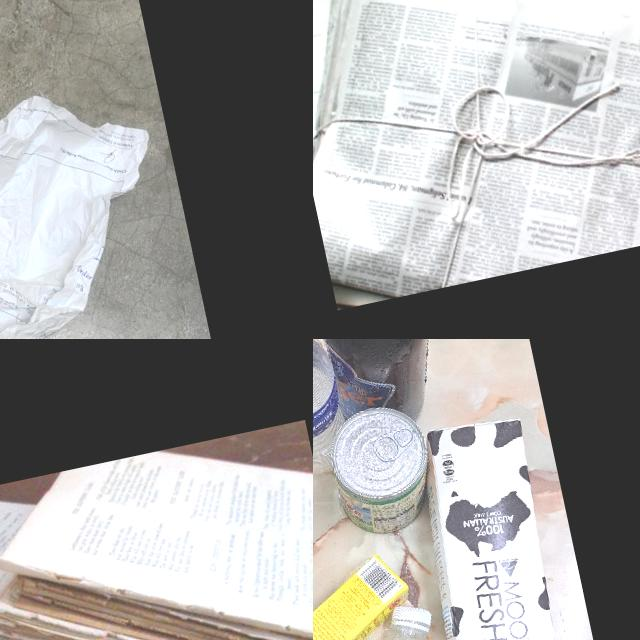aba de lata: (362, 412, 405, 464)
caixinha: (401, 406, 582, 640), (313, 555, 424, 640)
garrafa de vidro: (313, 339, 451, 438)
garrafa plástica: (313, 339, 354, 485)
lata: (320, 400, 440, 540)
papel: (313, 0, 640, 309), (0, 418, 313, 640), (0, 433, 309, 640), (0, 73, 196, 339)
tampa plástica: (393, 601, 438, 635)
